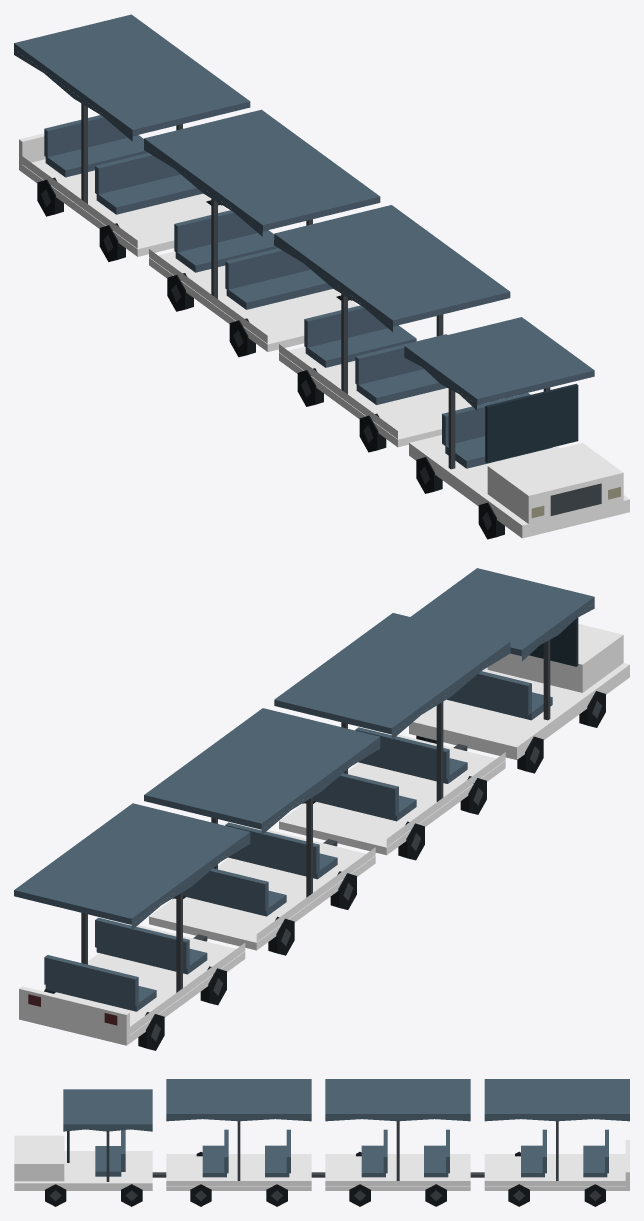
The model's file is keys-tour-tram.glb.
3 views of the same model, one above another, from view 1: azimuth 30°, elevation 25°; view 2: azimuth 150°, elevation 25°; view 3: azimuth 270°, elevation 25° (orthographic). The views are drawn at different scales.
Visible parts, largest first — view 1: vehicle_body; view 2: vehicle_body; view 3: vehicle_body.
Boxes of the visible parts, x1,y1,x2,y2 form: vehicle_body: (14,14,629,539); vehicle_body: (14,568,629,1050); vehicle_body: (14,1079,629,1206).
Bounding box in the file's own units: 2.4 × 3 × 17.81.
